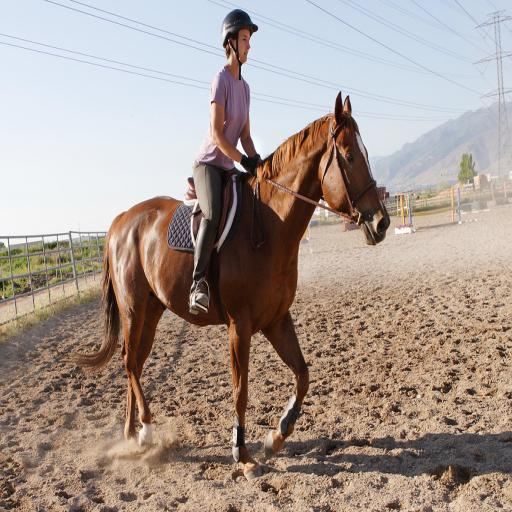horse: (70, 92, 392, 482)
